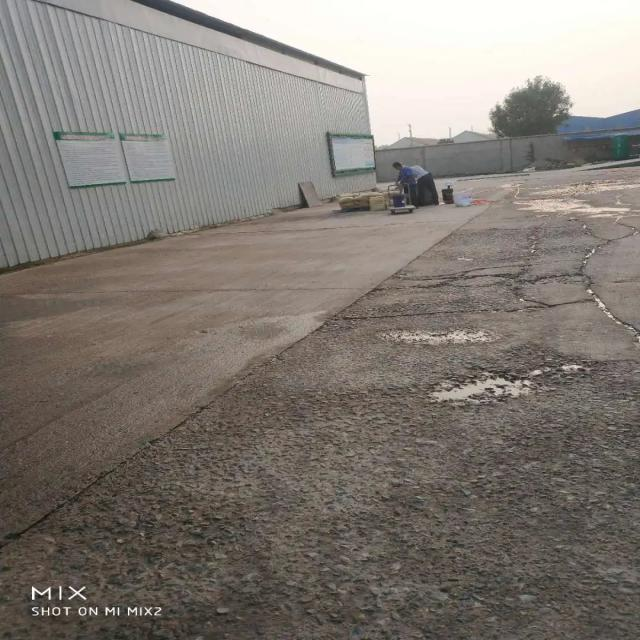Pothole: (412, 362, 604, 408), (450, 265, 611, 310), (379, 322, 515, 351)
